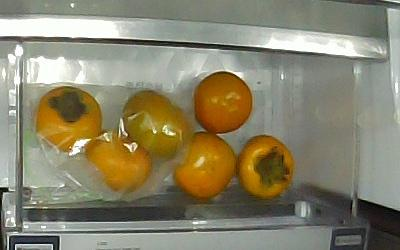persimmon: (173, 132, 238, 199), (194, 71, 254, 135), (238, 135, 296, 199)
persimmon_vinyl: (121, 89, 193, 157), (35, 86, 103, 155), (84, 130, 152, 193)
